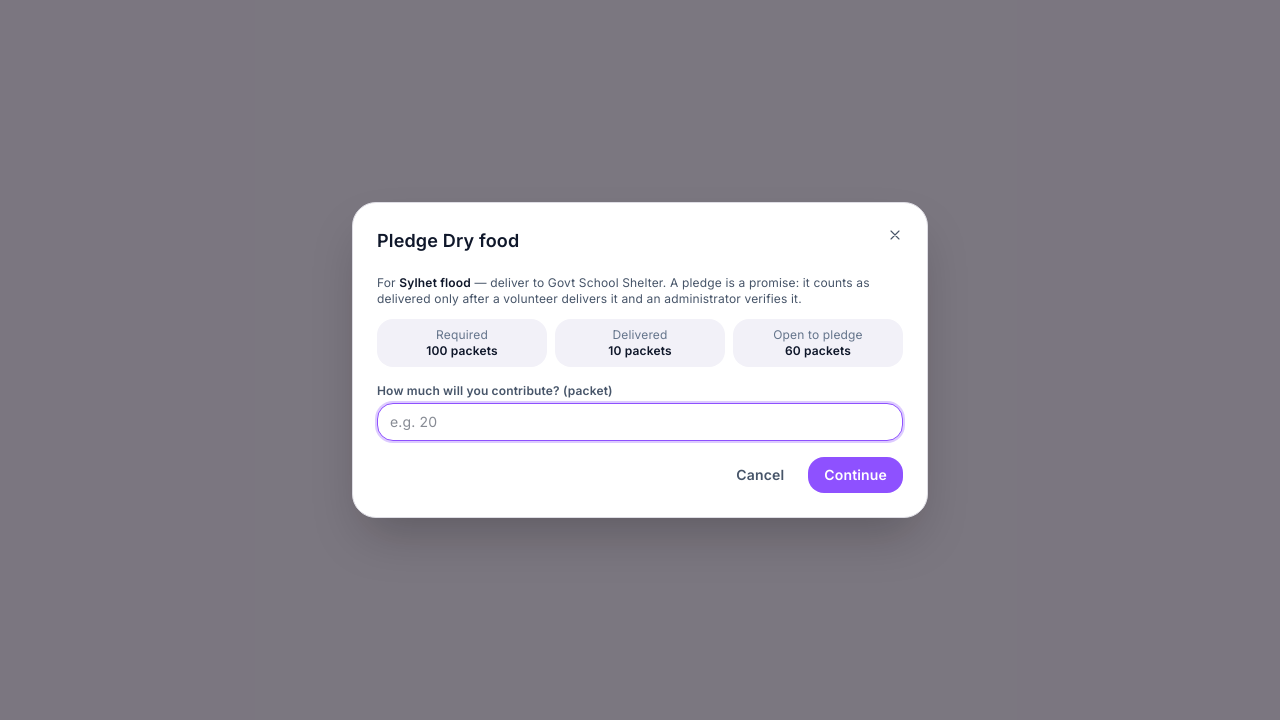
Test: PledgeDialog — quantity step › rejects "0" without leaving the step
Type "0" into the field labelled "How much will you contribute? (packet)". click: (640, 422)
box: [377,403,903,441]
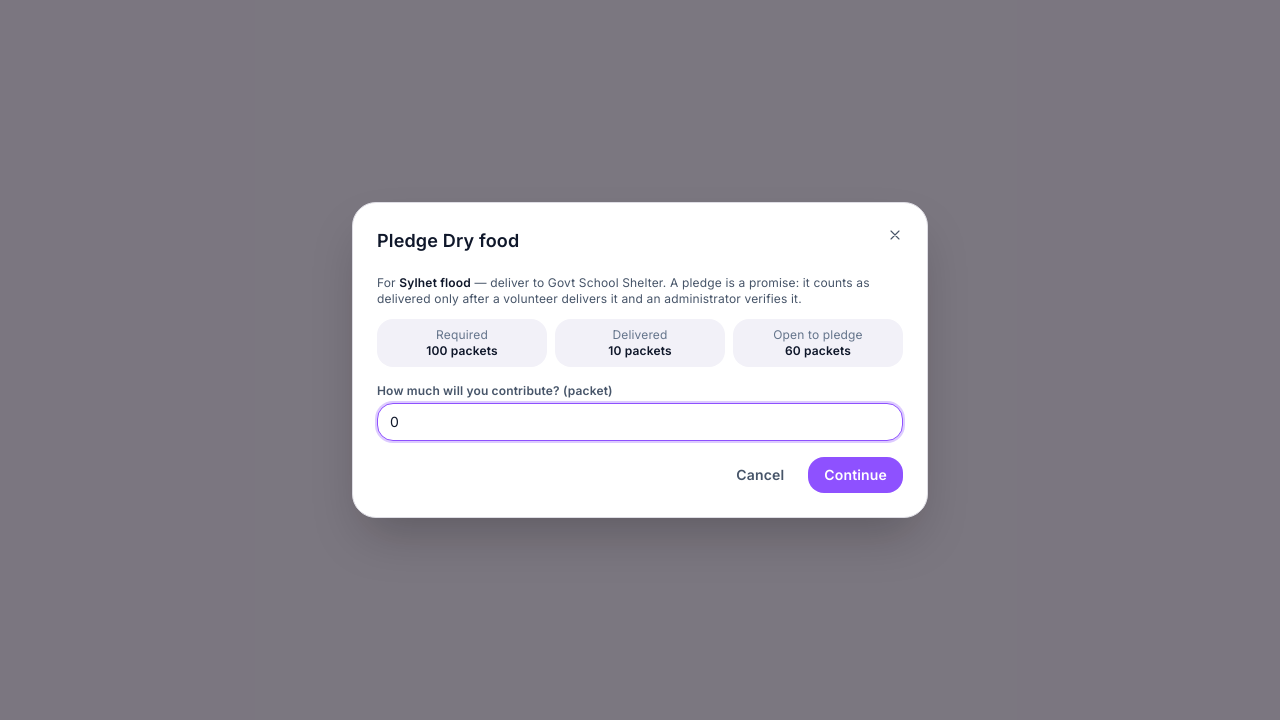
Click the button "Continue". click: (856, 475)
box: [808,457,903,493]
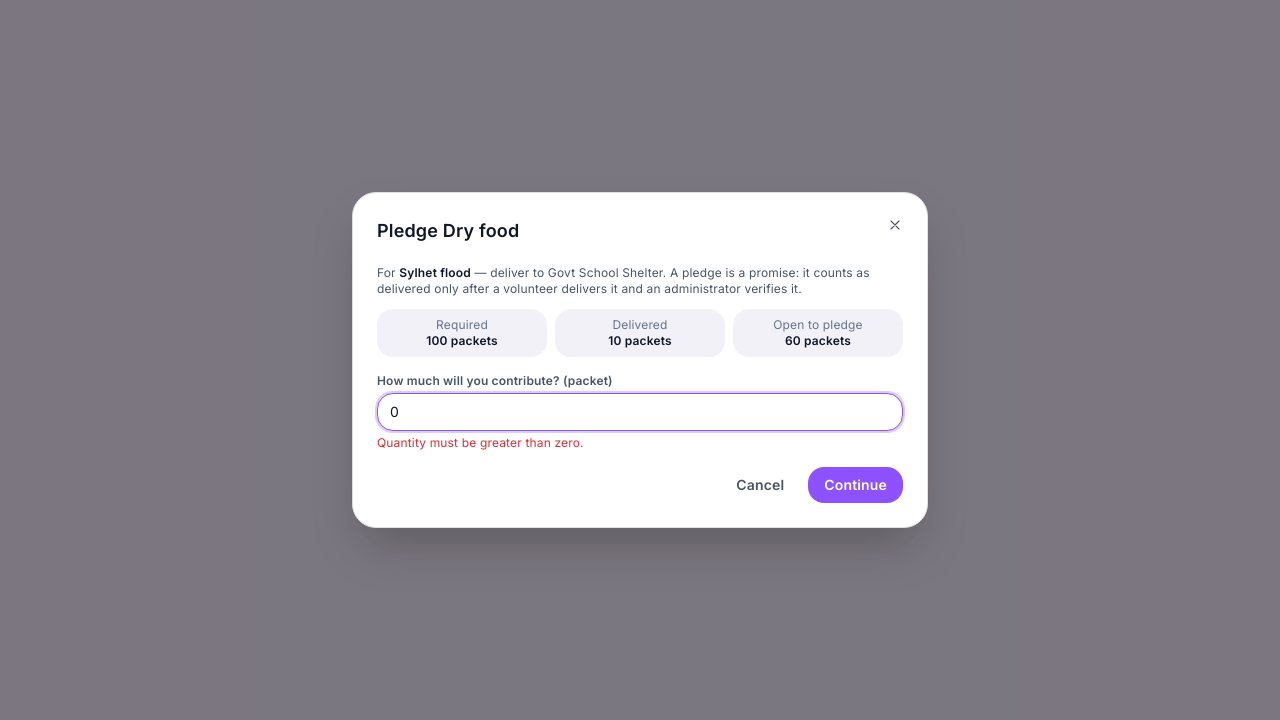
Now the message shows "greater than zero", box [377,435,584,450]
